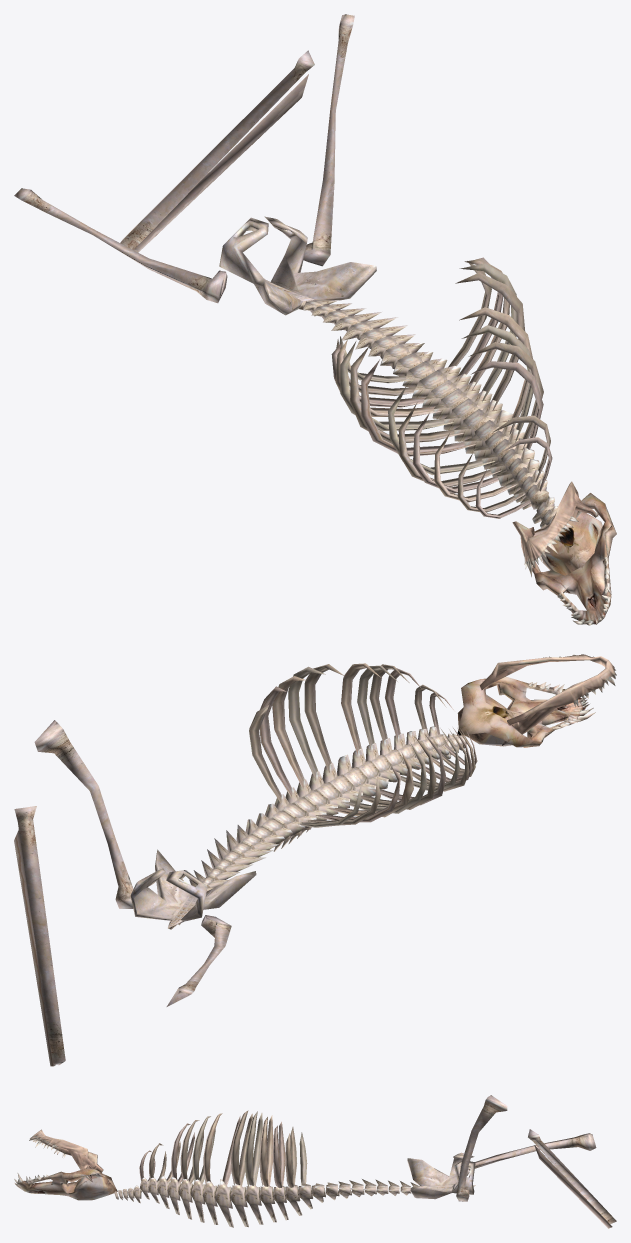
Rendered from poi_all_ancient_skeleton_s01_dynamic_l0.fbx.
3 views of the same model, one above another, from view 1: azimuth 30°, elevation 25°; view 2: azimuth 150°, elevation 25°; view 3: azimuth 270°, elevation 25° (orthographic). The views are drawn at different scales.
Visible parts, largest first — view 1: mesh_node; view 2: mesh_node; view 3: mesh_node.
Part boxes in pixels (<box>): mesh_node: <box>14,14,616,625</box>; mesh_node: <box>14,654,616,1066</box>; mesh_node: <box>14,1095,616,1228</box>.
Bounding box in the file's own units: 11.28 × 12.4 × 42.03.
1 material, 1 textured.
